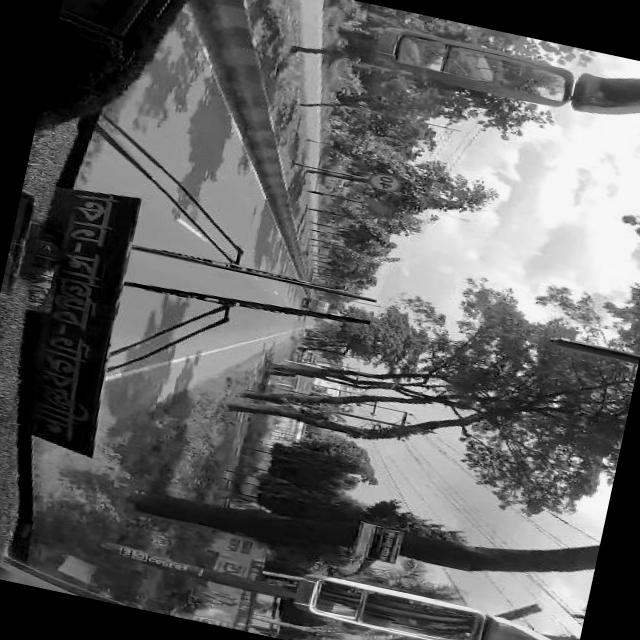truck: (304, 296, 331, 314)
